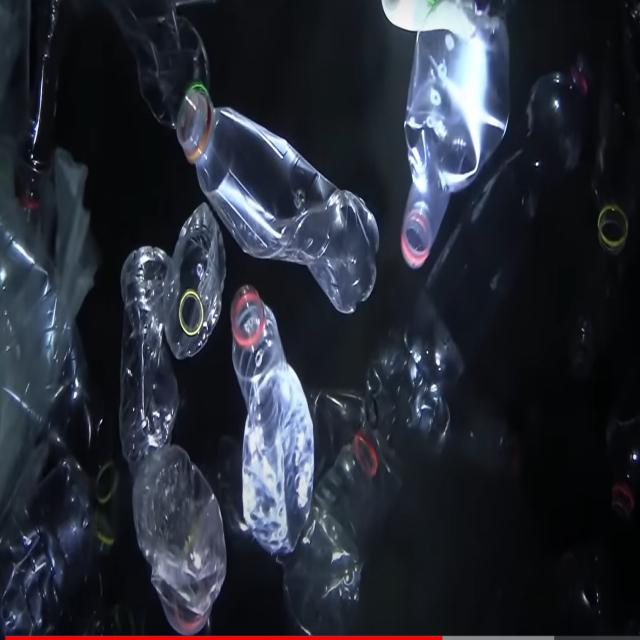plasticcover: (197, 81, 381, 313)
